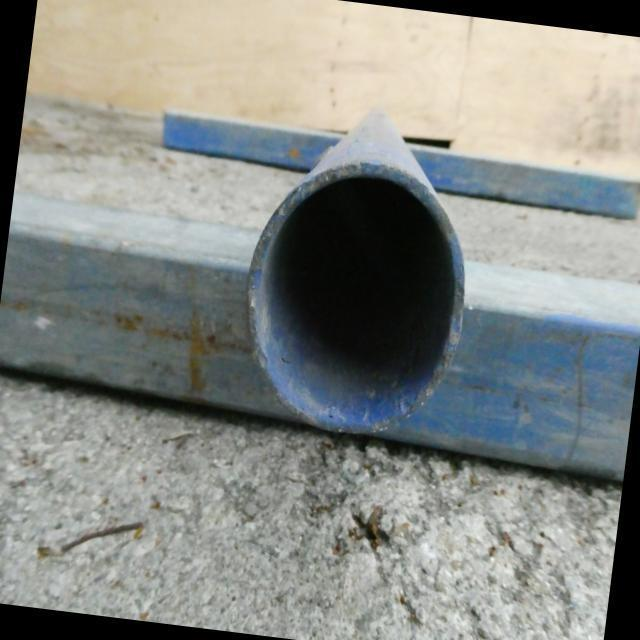pipe: (247, 164, 468, 433)
